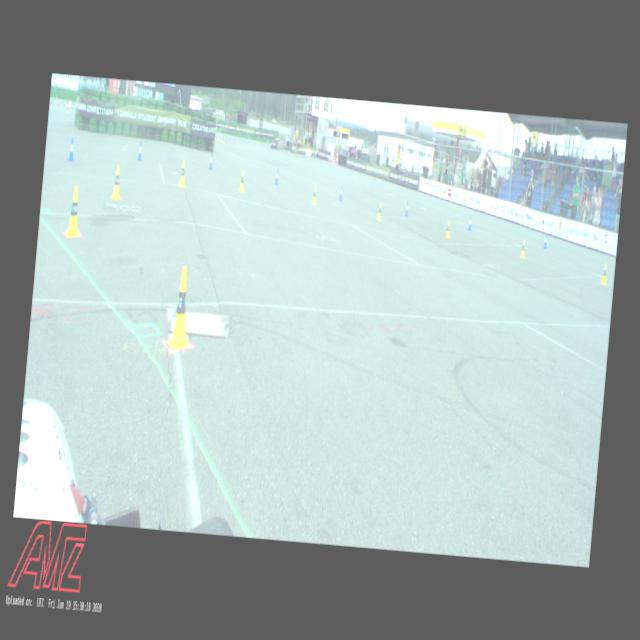blue_cone: (67, 136, 76, 160), (137, 140, 143, 160), (208, 152, 214, 170), (274, 168, 280, 184), (467, 214, 472, 230), (543, 232, 548, 248), (404, 201, 409, 216), (338, 186, 342, 200)
yellow_cone: (166, 266, 197, 352), (64, 185, 84, 238), (110, 164, 123, 200), (178, 160, 186, 187), (238, 170, 246, 192), (600, 263, 608, 284), (519, 240, 526, 258), (312, 186, 318, 204), (376, 202, 382, 220), (444, 220, 450, 238)
